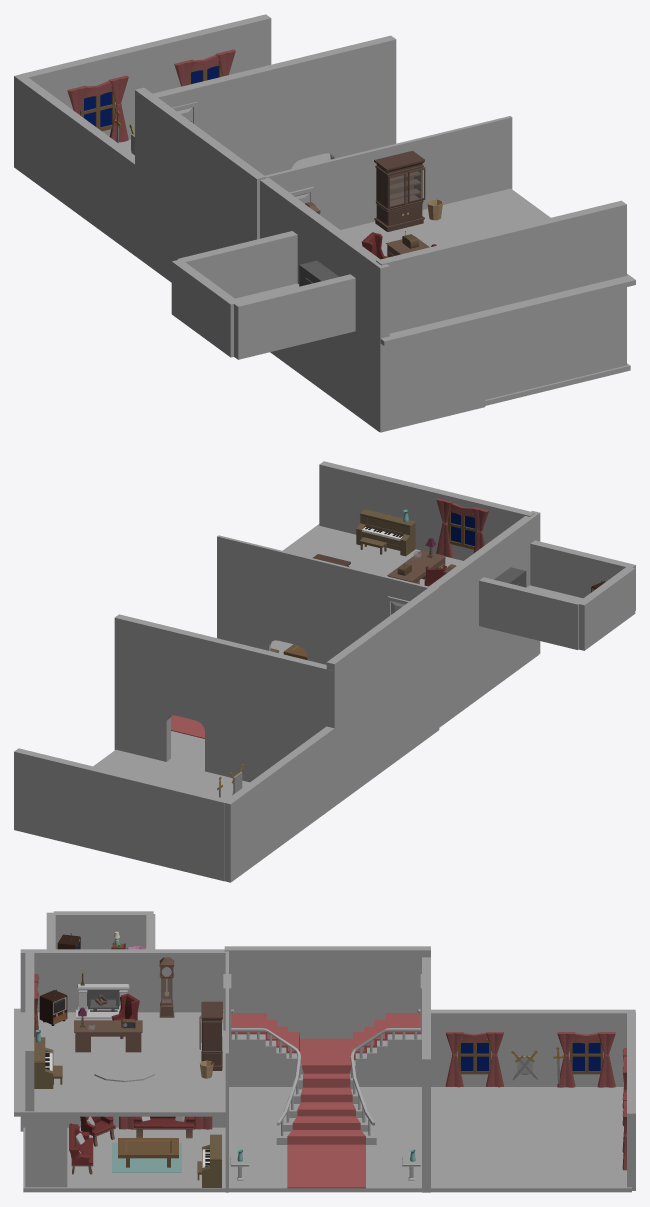
Rendered from Mansion.fbx.
The picture shows the model from 3 angles, top to bottom: view 1: azimuth 30°, elevation 25°; view 2: azimuth 150°, elevation 25°; view 3: azimuth 270°, elevation 25°; orthographic projection. The views are drawn at different scales.
Parts seen in each view (by area): view 1: pCube130, pCube142, pCube107, pCube114, pCube128, pCube144, pCube129, pCube131, pCube150, pCube151, pCube149, pCube35 (+5 smaller); view 2: pCube107, pCube129, pCube114, pCube144, pCube142, pCube128, pCube130, pCube151, pCube98, pCube150, pCube131, pCube149 (+3 smaller); view 3: pCube98, pCube114, pCube131, pCube171, pCube128, pCube142, pCube108, pCube130, pCube149, pCube167, pCube107, pCube129 (+20 smaller).
Part boxes in pixels (x1,y1,x2,y2): pCube130: (376, 200, 626, 399); pCube142: (260, 177, 485, 432); pCube107: (153, 35, 396, 175); pCube114: (135, 87, 265, 282); pCube128: (14, 74, 135, 256); pCube144: (265, 116, 512, 229); pCube129: (21, 14, 271, 139); pCube131: (341, 188, 635, 346); pCube150: (233, 274, 355, 359); pCube151: (177, 231, 297, 298); pCube149: (171, 259, 239, 357); pCube35: (374, 150, 424, 231); pCube107: (114, 614, 332, 782); pCube129: (14, 748, 226, 881); pCube114: (326, 585, 439, 805); pCube144: (217, 535, 429, 664); pCube142: (429, 511, 540, 727); pCube128: (223, 726, 335, 882); pCube130: (319, 461, 534, 560); pCube151: (479, 577, 581, 649); pCube98: (93, 640, 538, 798); pCube150: (530, 540, 635, 610); pCube131: (282, 524, 462, 585); pCube149: (579, 566, 635, 650); pCube98: (23, 1087, 631, 1192); pCube114: (224, 946, 430, 1086); pCube131: (14, 1008, 225, 1116); pCube171: (231, 1013, 420, 1188); pCube128: (431, 1009, 635, 1086); pCube142: (20, 949, 225, 1131); pCube108: (231, 1034, 421, 1144); pCube130: (25, 949, 67, 1187); pCube149: (53, 911, 153, 949); pCube167: (557, 1032, 615, 1087); pCube107: (422, 957, 430, 1192); pCube129: (627, 1012, 635, 1190).
Size of the model in its own units: 41.43 by 17.46 by 68.81.
